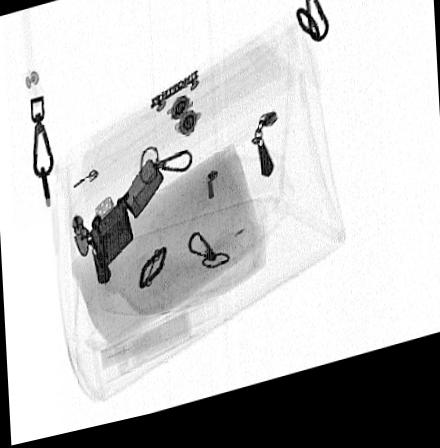Lighter: (89, 164, 165, 274)
